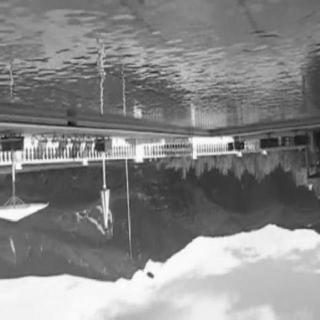other: (23, 135, 237, 171)
